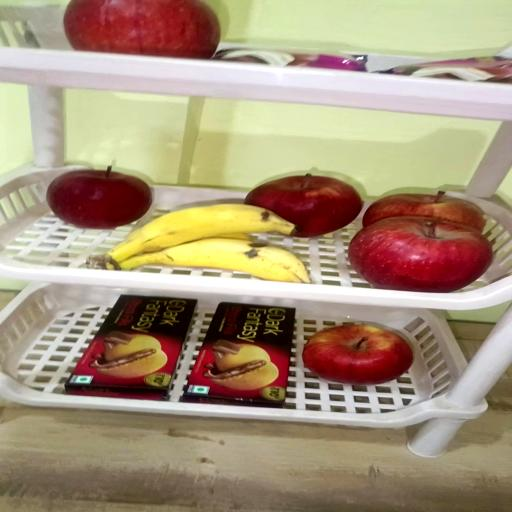Apple: (348, 218, 492, 295), (61, 0, 219, 60), (246, 174, 362, 240), (46, 168, 152, 232), (303, 324, 414, 385), (362, 192, 484, 234)
Choco Fills: (65, 295, 196, 401), (184, 304, 292, 408)
Choco Pie: (380, 55, 512, 83), (214, 47, 366, 71)
